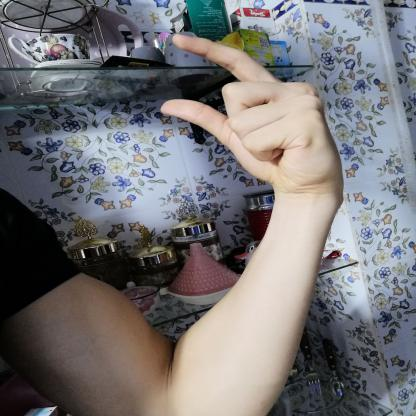DELL: (146, 24, 363, 198)
